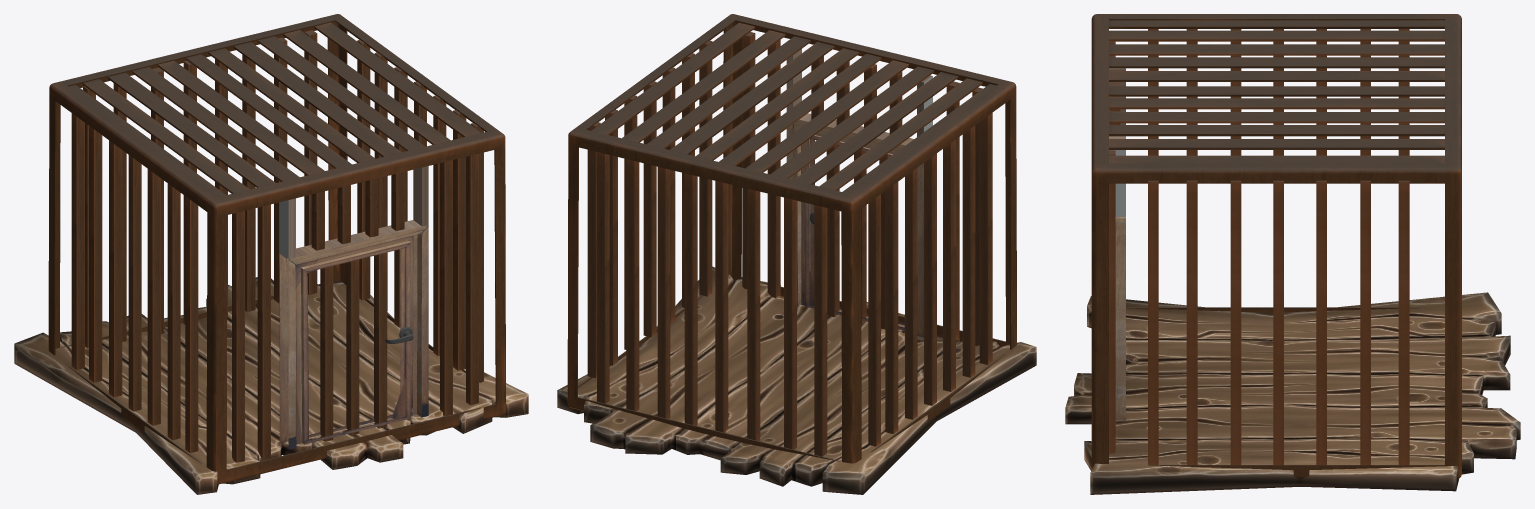
File: cage.glb
3 views of the same model, side by side, from view 1: azimuth 30°, elevation 25°; view 2: azimuth 150°, elevation 25°; view 3: azimuth 270°, elevation 25° (orthographic). The views are drawn at different scales.
Parts seen in each view (by area): view 1: pCube1.001, defaultMaterial.001_DefaultMaterial.001_0, pCube14.001, pCube14, DoorFrame, Door, pCube12.001, pCube12.012, pCube12.013, pCube12.017, pCube12.014, pCube12.011 (+26 smaller); view 2: defaultMaterial.001_DefaultMaterial.001_0, pCube1.001, pCube14.001, pCube14, pCube12.029, pCube12.031, pCube12.030, pCube12.027, pCube12.032, pCube12.018, pCube12.012, pCube12.016 (+23 smaller); view 3: defaultMaterial.001_DefaultMaterial.001_0, pCube1.001, pCube14.001, pCube14, pCube12.020, pCube12.025, pCube12.021, pCube12.019, pCube12.022, pCube12.023, pCube12.024, DoorFrame (+1 smaller).
Part boxes in pixels (<box>): pCube1.001: <box>48,14,505,484</box>; defaultMaterial.001_DefaultMaterial.001_0: <box>14,277,528,494</box>; pCube14.001: <box>185,22,481,168</box>; pCube14: <box>69,60,324,196</box>; DoorFrame: <box>279,166,428,449</box>; Door: <box>296,235,413,444</box>; pCube12.001: <box>257,204,270,460</box>; pCube12.012: <box>167,183,180,440</box>; pCube12.013: <box>147,169,160,425</box>; pCube12.017: <box>71,113,84,369</box>; pCube12.014: <box>128,155,141,411</box>; pCube12.011: <box>185,196,198,453</box>; defaultMaterial.001_DefaultMaterial.001_0: <box>557,266,1036,494</box>; pCube1.001: <box>567,14,1017,463</box>; pCube14.001: <box>591,23,881,165</box>; pCube14: <box>745,60,996,193</box>; pCube12.029: <box>684,173,697,425</box>; pCube12.031: <box>747,188,760,440</box>; pCube12.030: <box>657,167,670,418</box>; pCube12.027: <box>626,159,639,411</box>; pCube12.032: <box>715,181,728,432</box>; pCube12.018: <box>814,205,827,456</box>; pCube12.012: <box>962,125,975,377</box>; pCube12.016: <box>885,182,898,433</box>; defaultMaterial.001_DefaultMaterial.001_0: <box>1065,292,1520,494</box>; pCube1.001: <box>1091,14,1461,478</box>; pCube14.001: <box>1109,86,1444,163</box>; pCube14: <box>1109,20,1444,81</box>; pCube12.020: <box>1186,180,1197,465</box>; pCube12.025: <box>1398,180,1409,465</box>; pCube12.021: <box>1230,180,1241,465</box>; pCube12.019: <box>1148,180,1158,465</box>; pCube12.022: <box>1273,180,1283,465</box>; pCube12.023: <box>1316,180,1326,465</box>; pCube12.024: <box>1360,180,1370,465</box>; DoorFrame: <box>1109,68,1125,423</box>.
Size of the model in its own units: 1.71 by 1.4 by 1.83.
Materials: 4 (3 with a texture image).
